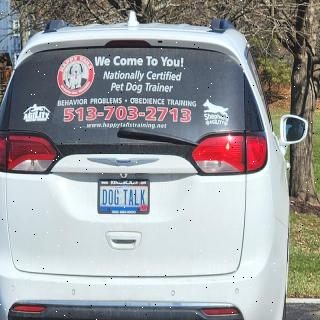license: (98, 181, 151, 215)
